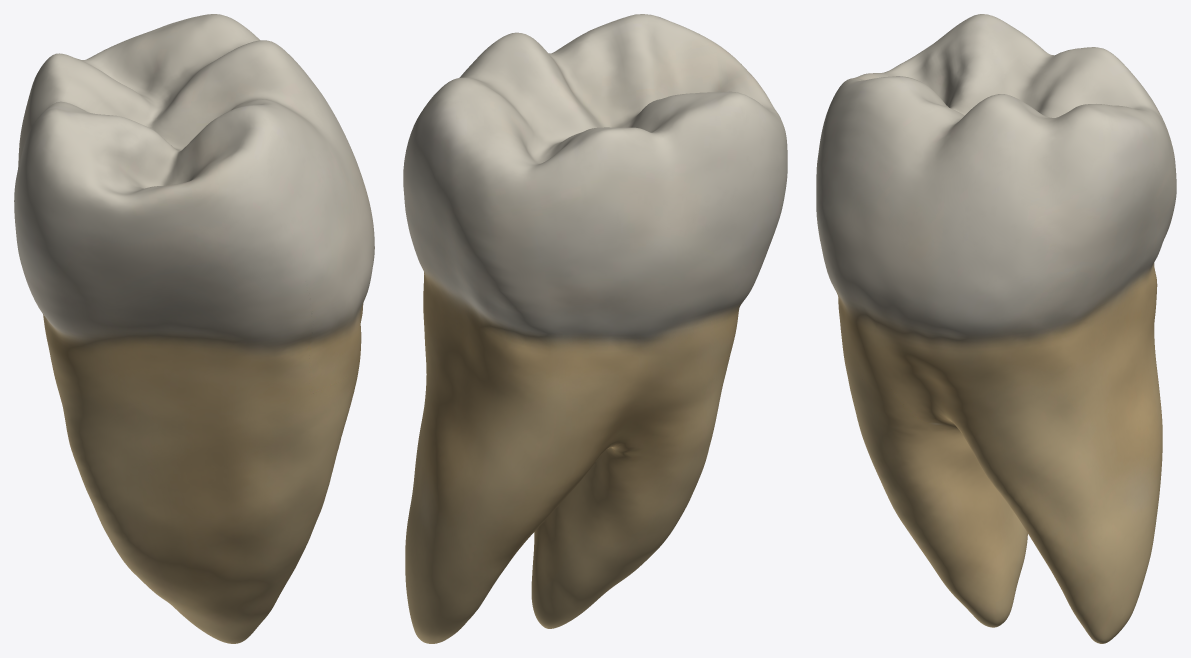
The model's file is mandibular_first_molar.glb.
The picture shows the model from 3 angles, left to right: view 1: azimuth 30°, elevation 25°; view 2: azimuth 150°, elevation 25°; view 3: azimuth 270°, elevation 25°; orthographic projection. The views are drawn at different scales.
Visible parts, largest first — view 1: Object_2; view 2: Object_2; view 3: Object_2.
Part boxes in pixels (x1,y1,x2,y2): Object_2: [14, 14, 374, 643]; Object_2: [403, 14, 787, 643]; Object_2: [816, 14, 1176, 643].
Size of the model in its own units: 1.1 by 1.83 by 1.11.
Materials: 1 (1 with a texture image).
